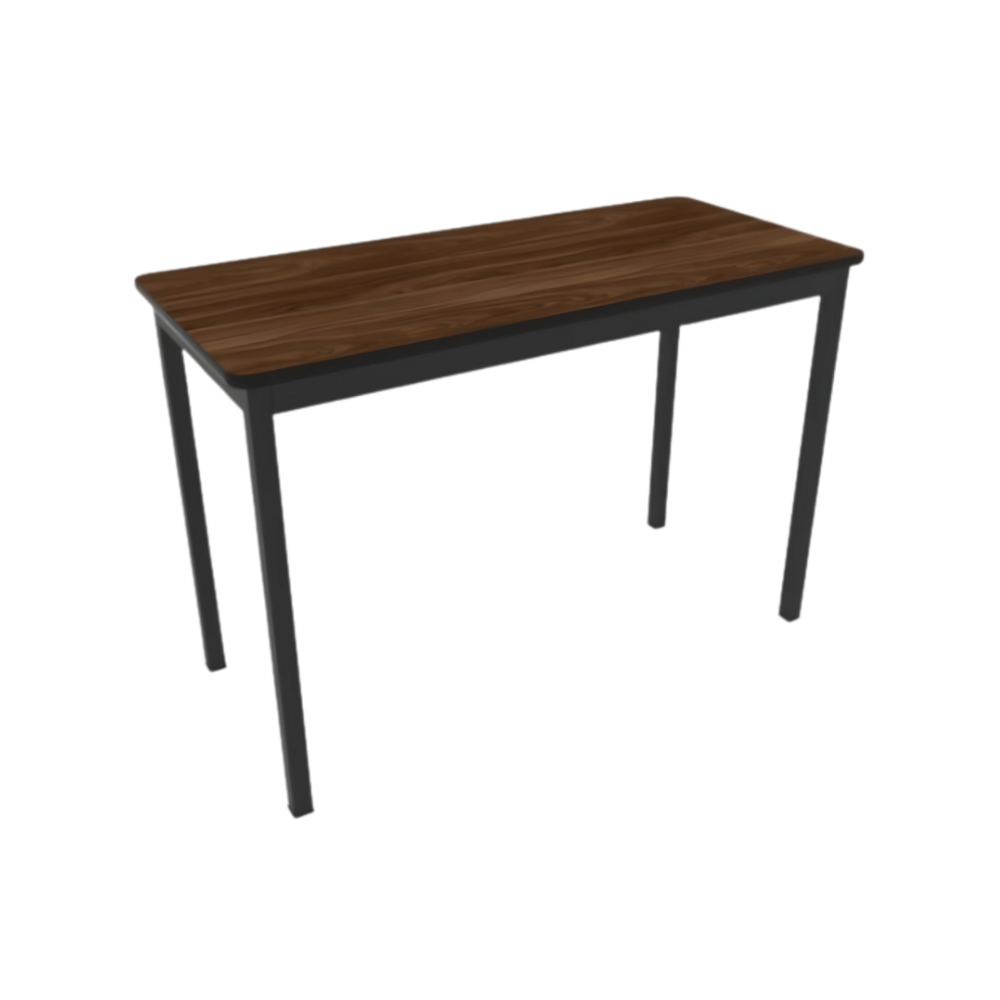m01: (133, 196, 865, 817)
